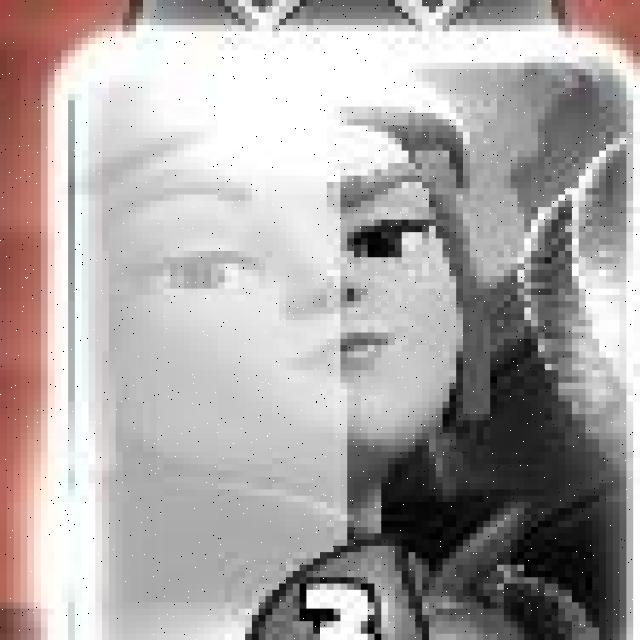Evolved_Firecracker: (40, 31, 635, 640)
